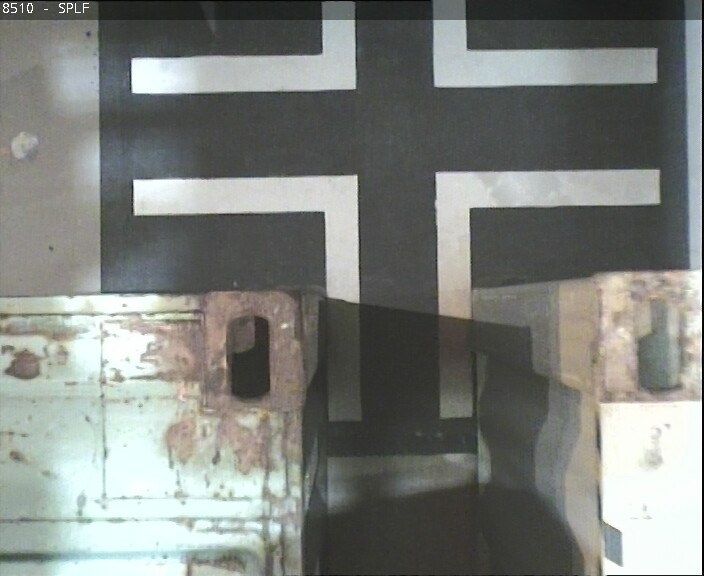groundmarker_1: (129, 168, 658, 415)
